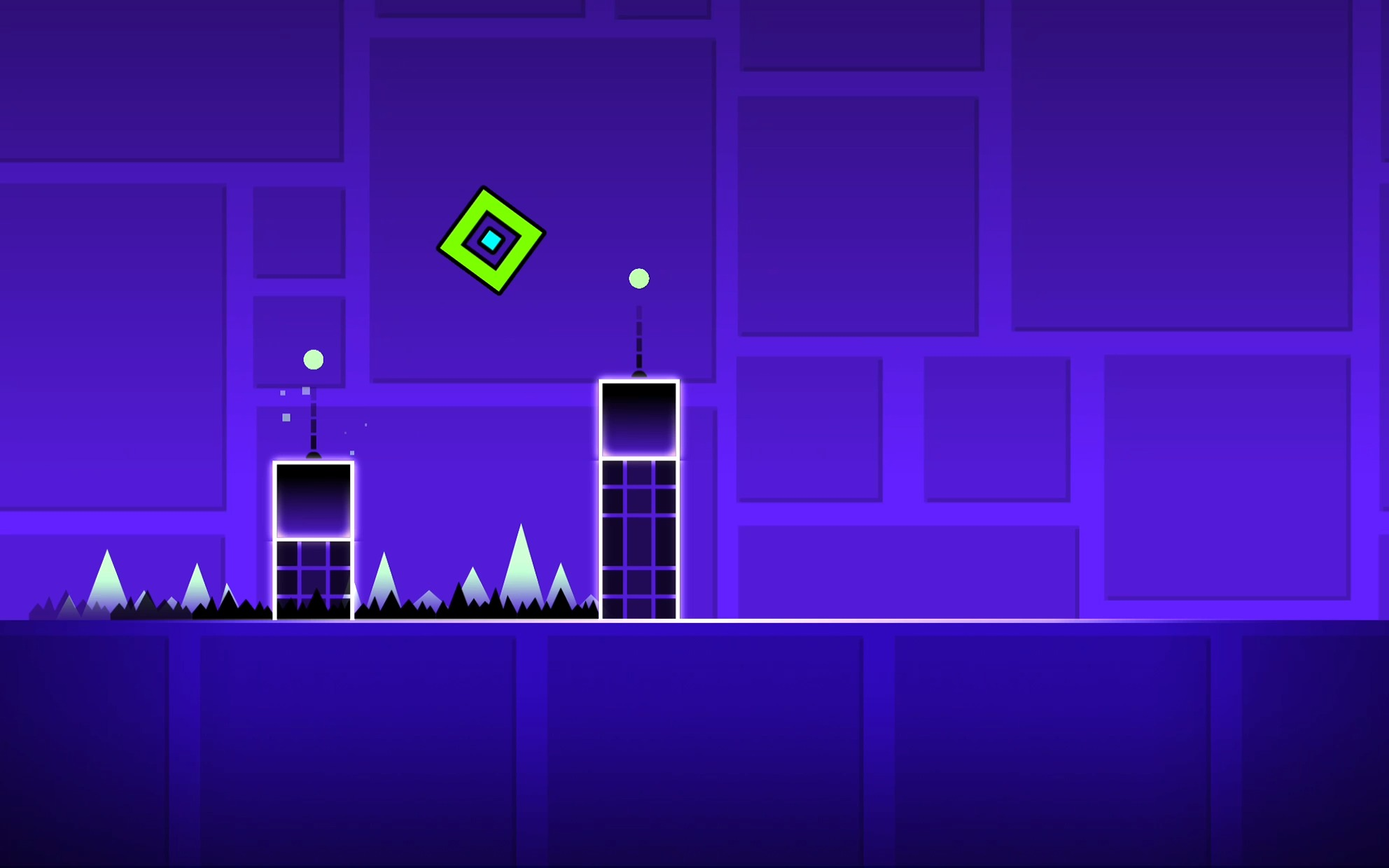Block: (275, 461, 351, 538), (601, 380, 677, 456)
Block2: (603, 459, 676, 623), (274, 536, 354, 624)
Player: (437, 186, 545, 294)
Spike3: (3, 592, 274, 627), (357, 594, 599, 625)
